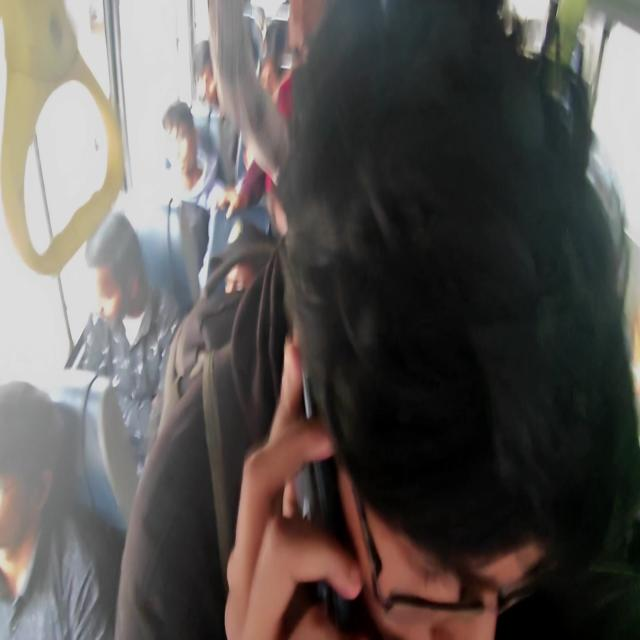person: (302, 166, 564, 638), (86, 209, 151, 359), (0, 399, 56, 551), (187, 31, 229, 124), (219, 225, 261, 315), (162, 107, 200, 195), (284, 4, 326, 64), (258, 57, 282, 131)
